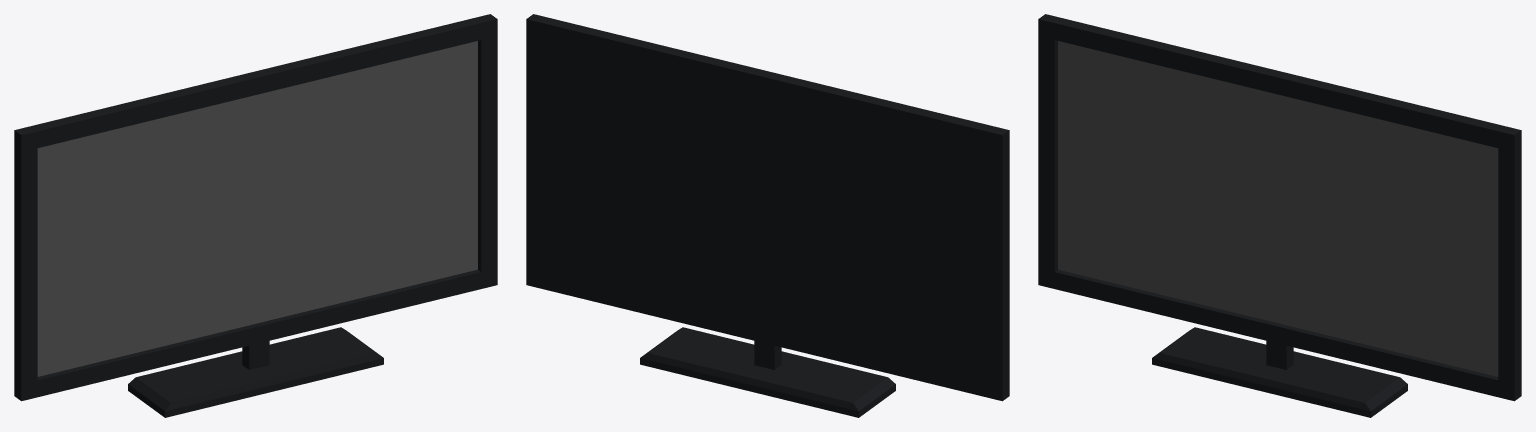
File: Tv_main.fbx
3 renders of one model, left to right at view 1: azimuth 30°, elevation 25°; view 2: azimuth 150°, elevation 25°; view 3: azimuth 330°, elevation 25°, orthographic.
Parts seen in each view (by area): view 1: TV_Low; view 2: TV_Low; view 3: TV_Low.
Part boxes in pixels (bbox=[...]): TV_Low: bbox=[14, 14, 497, 417]; TV_Low: bbox=[526, 14, 1009, 417]; TV_Low: bbox=[1038, 14, 1521, 417].
Size of the model in its own units: 156 by 94.72 by 21.06.
1 material, 1 textured.
